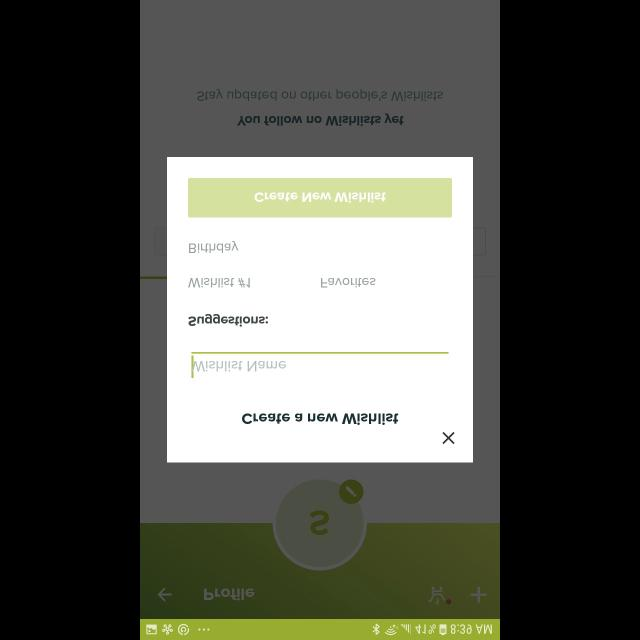icon: (428, 586, 444, 604), (471, 586, 487, 602), (158, 586, 172, 602), (443, 432, 455, 444)
image: (276, 478, 364, 568)
input: (192, 352, 448, 378)
panel: (167, 157, 473, 463)
text: (197, 89, 443, 101), (236, 114, 404, 126), (242, 413, 398, 425), (192, 361, 286, 372), (188, 314, 268, 326), (189, 240, 239, 253), (188, 278, 252, 288), (204, 588, 256, 600), (320, 277, 376, 287)
textbutton: (188, 178, 452, 218)
uppertaskbar: (140, 618, 500, 640)
